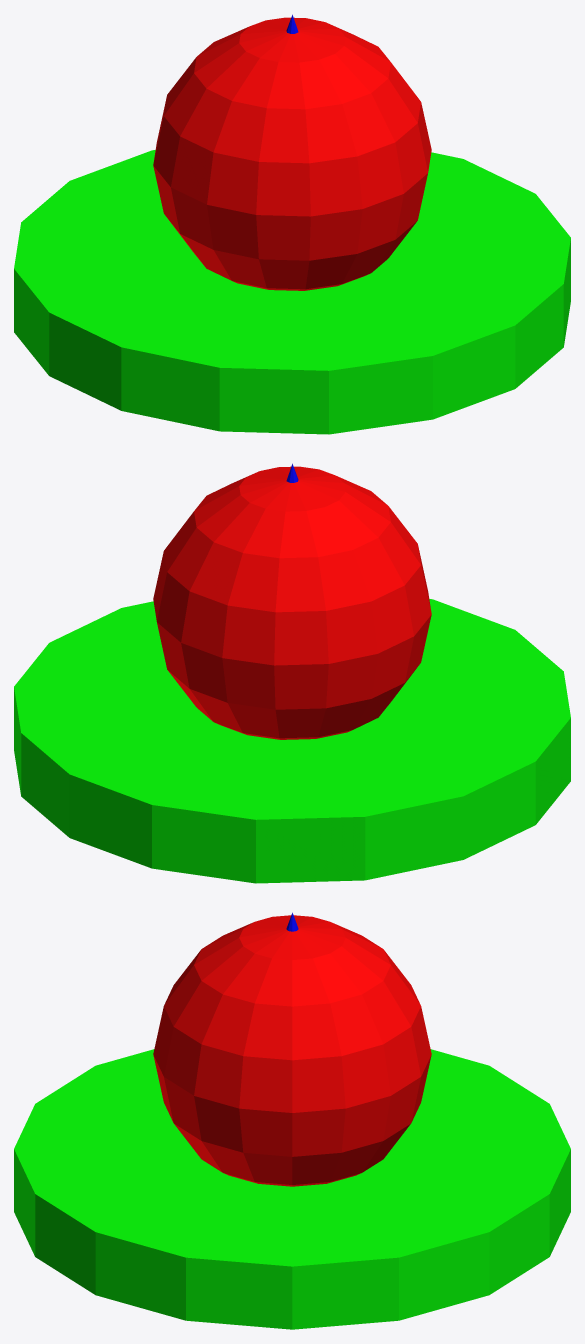
File: seedstage_apple_colored_1744382259.glb
3 views of the same model, one above another, from view 1: azimuth 30°, elevation 25°; view 2: azimuth 150°, elevation 25°; view 3: azimuth 270°, elevation 25° (orthographic).
Parts seen in each view (by area): view 1: Base_Green, Seed_Red; view 2: Base_Green, Seed_Red; view 3: Base_Green, Seed_Red.
Part boxes in pixels (box(x1,y1,x2,y2)): Base_Green: box(14, 150, 570, 434); Seed_Red: box(153, 17, 431, 290); Base_Green: box(14, 599, 570, 883); Seed_Red: box(153, 466, 431, 739); Base_Green: box(14, 1049, 570, 1329); Seed_Red: box(153, 915, 431, 1186).
Size of the model in its own units: 0.8 by 0.475 by 0.8.
